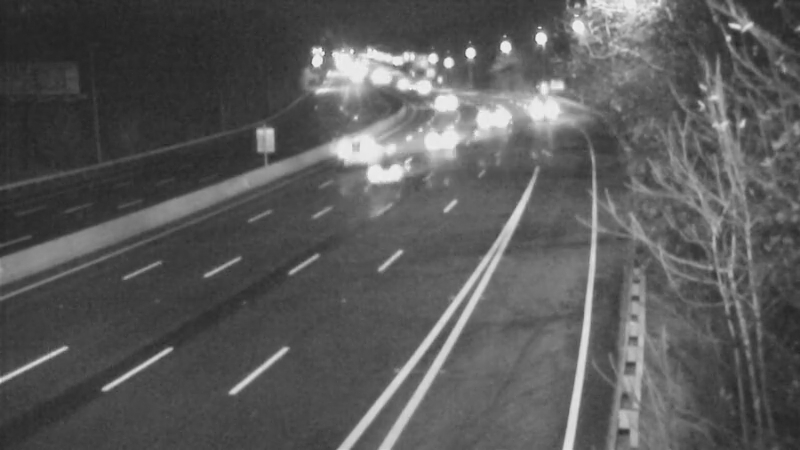vehicle: (314, 111, 394, 191), (345, 135, 425, 215), (376, 57, 426, 107), (396, 62, 446, 112), (419, 77, 469, 127), (512, 84, 562, 134), (460, 91, 510, 141), (424, 111, 474, 161)
